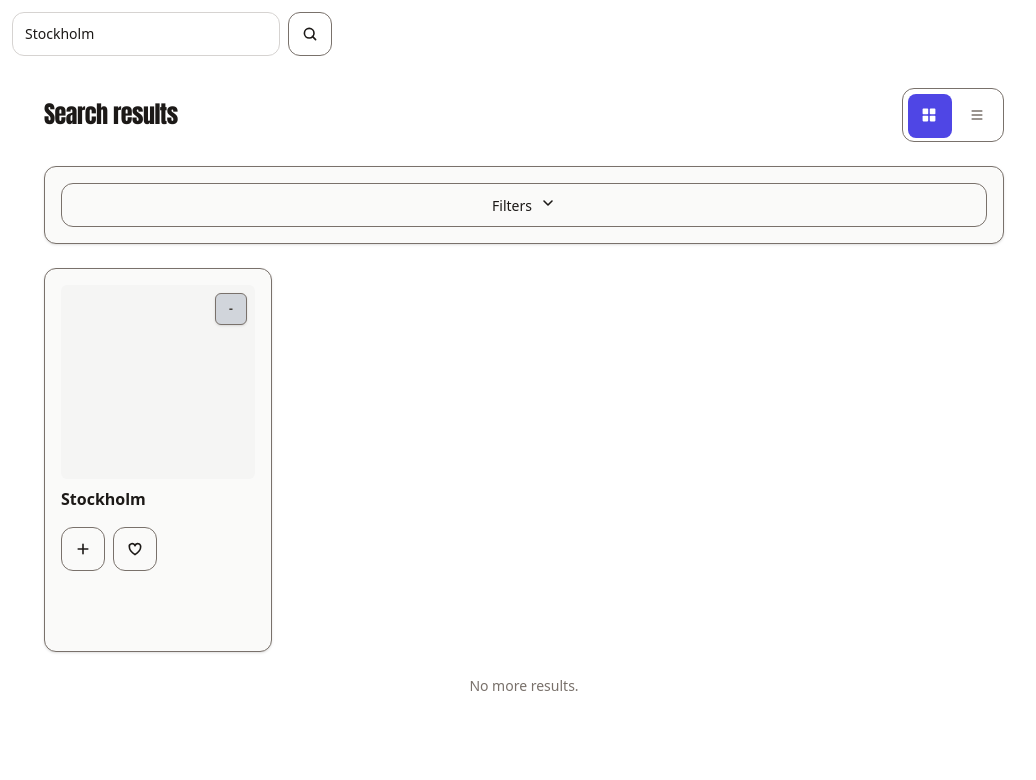
Scenario: Search results flow (US2) › View mode toggle (feature 052, US1) › switches from grid to list and back without losing already-loaded results or firing a new request
expect the text "Stockholm" is shown: met, box [61,488,146,510]
expect the list with test id "search-results-grid" is shown: met, box [44,268,272,652]
Click the radio button with test id "view-mode-list": (977, 115) [955,93,999,137]
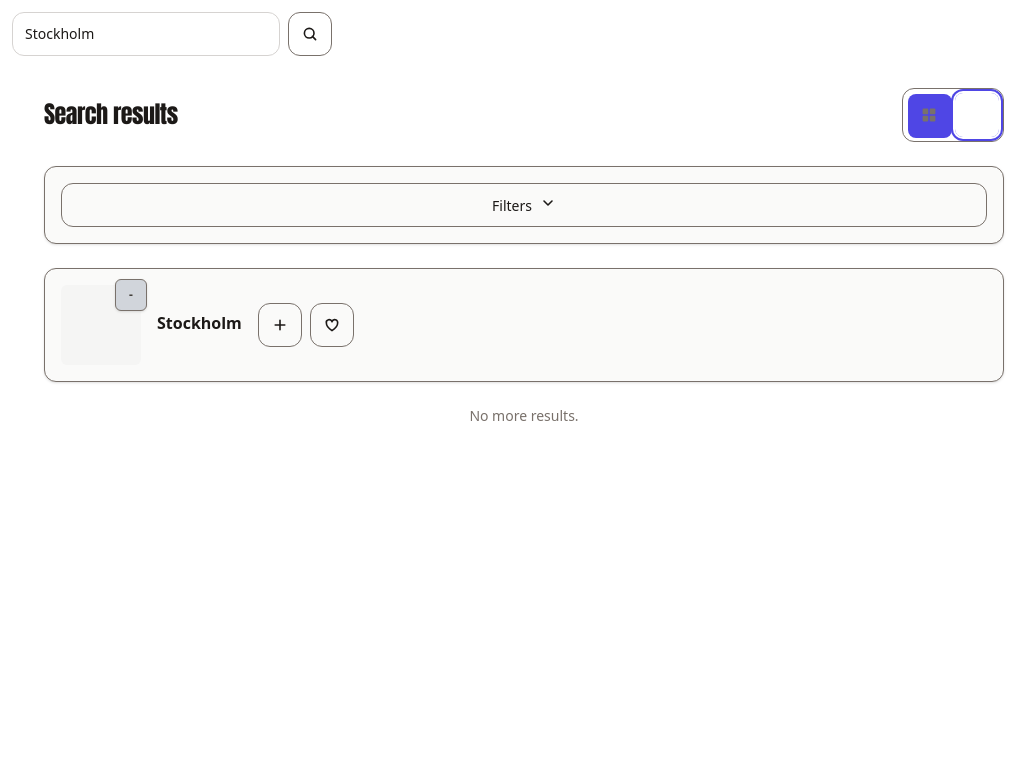
expect the text "Stockholm" is shown: met, box [157,311,242,335]
expect the list with test id "search-results-list" is shown: met, box [44,268,1004,382]
Click the radio button with test id "view-mode-grid": (929, 115) [907,93,951,137]
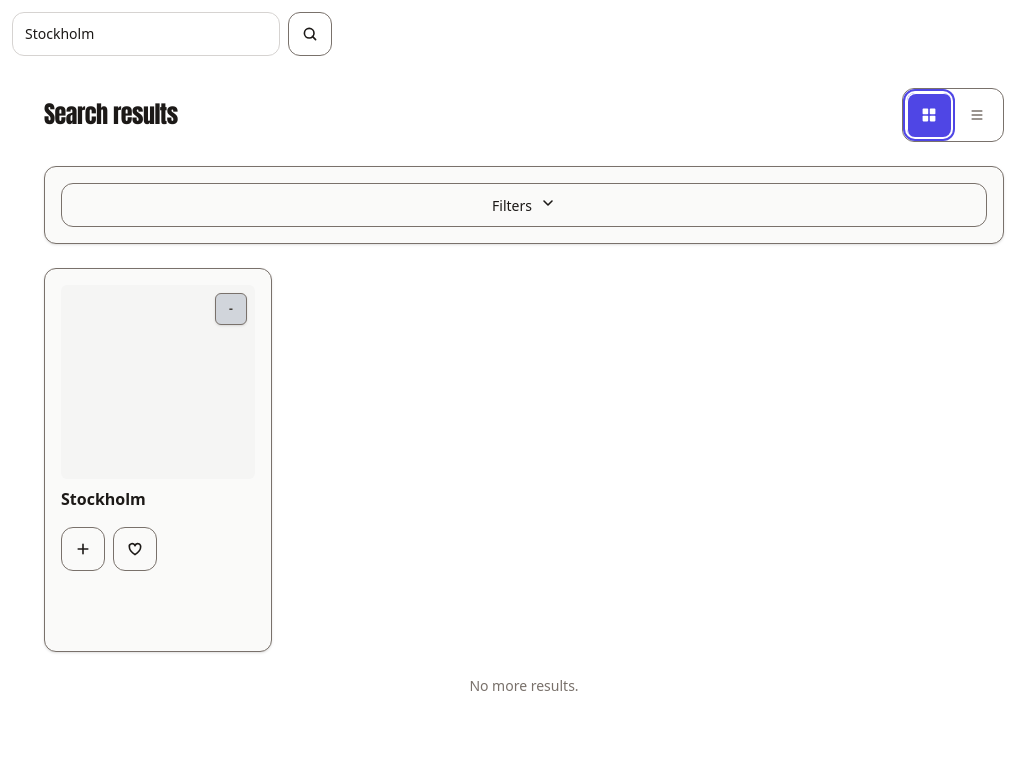
expect the list with test id "search-results-grid" is shown: met, box [44,268,272,652]
